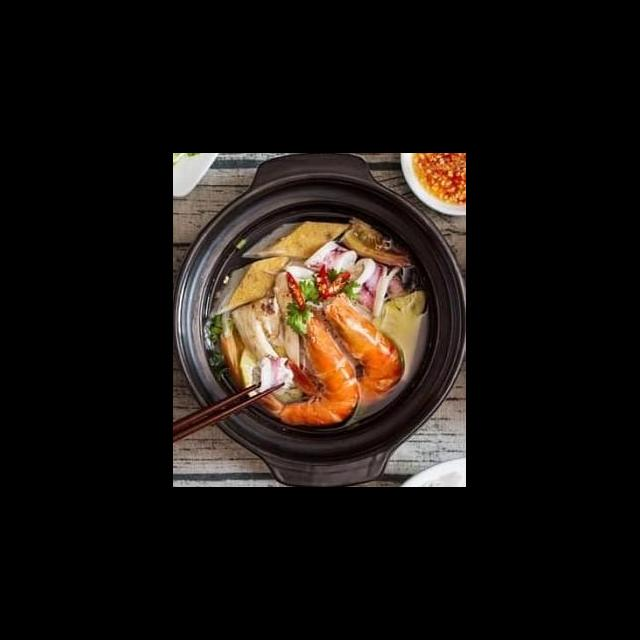muc: (344, 254, 408, 321), (302, 239, 360, 285), (254, 354, 300, 396)
tom: (238, 303, 364, 433), (286, 292, 408, 415)
